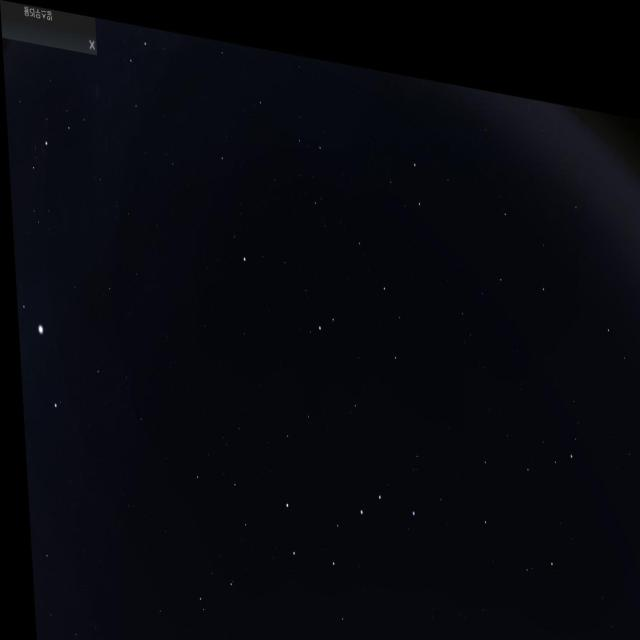ursa_major: (271, 440, 419, 582)
